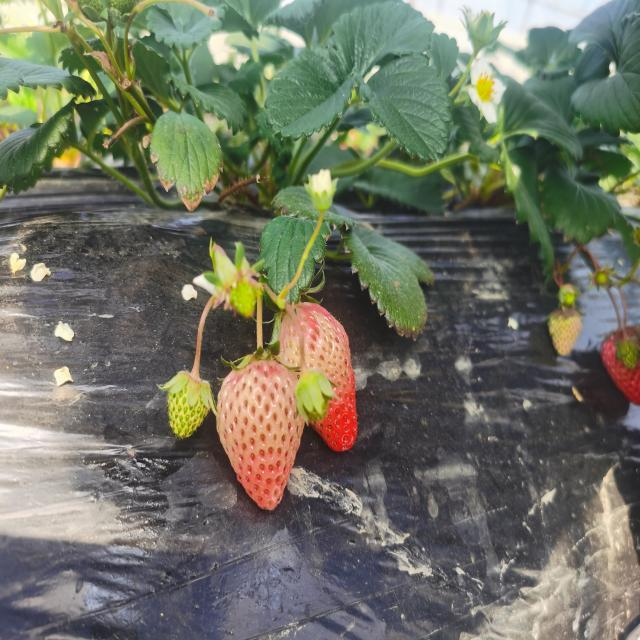stem: (257, 302, 264, 354)
strawberry: (217, 354, 305, 510), (295, 301, 358, 451), (274, 313, 299, 365)
